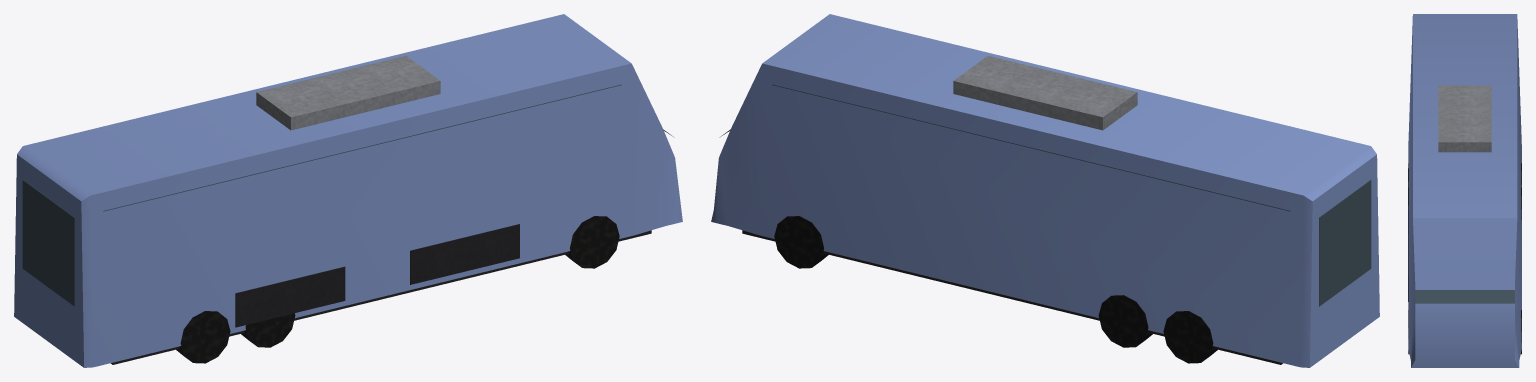
The model's file is coach.glb.
3 renders of one model, left to right at view 1: azimuth 30°, elevation 25°; view 2: azimuth 150°, elevation 25°; view 3: azimuth 270°, elevation 25°, orthographic. The views are drawn at different scales.
Parts seen in each view (by area): view 1: coach; view 2: coach; view 3: coach.
Part boxes in pixels (x1=…): coach: x1=14, y1=14, x2=682, y2=367; coach: x1=711, y1=14, x2=1379, y2=367; coach: x1=1408, y1=14, x2=1521, y2=367.
Size of the model in its own units: 12.01 by 3.95 by 2.56.
Materials: 5 (3 with a texture image).
